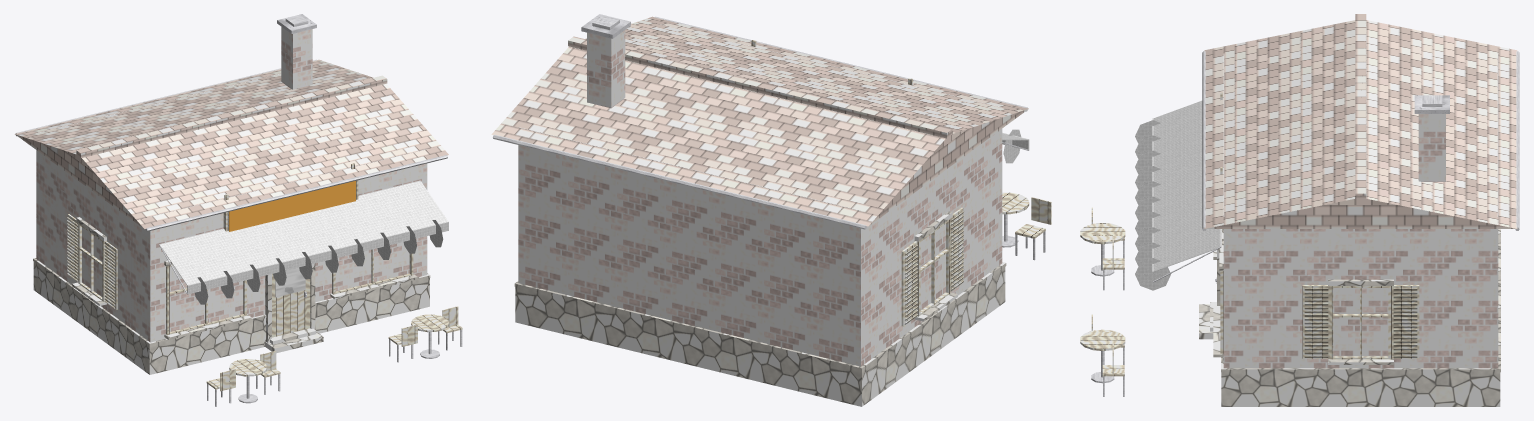
The model's file is bar.obj.
3 renders of one model, left to right at view 1: azimuth 30°, elevation 25°; view 2: azimuth 150°, elevation 25°; view 3: azimuth 270°, elevation 25°, orthographic. The views are drawn at different scales.
Visible parts, largest first — view 1: tegole_002, mattone_000, pietra_001, tessuto_010, tessuto_011, liscio_009, mattone_004, metallo_003, legno_014, legno_035, legno_013, metallo_006 (+10 smaller); view 2: mattone_000, tegole_002, pietra_001, mattone_004, metallo_003, legno_035, legno_033, metallo_006, legno_013, pietra_034, tessuto_010, cemento_005 (+1 smaller); view 3: tegole_002, mattone_000, pietra_001, tessuto_011, tessuto_010, legno_031, mattone_004, legno_012, metallo_003, legno_029, metallo_006, pietra_030 (+4 smaller).
Boxes of the visible parts, x1,y1,x2,y2 form: tegole_002: (15, 59, 448, 229); mattone_000: (36, 73, 427, 342); pietra_001: (33, 258, 430, 374); tessuto_010: (159, 187, 422, 304); tessuto_011: (185, 180, 448, 298); liscio_009: (229, 181, 355, 231); mattone_004: (281, 27, 312, 89); metallo_003: (16, 59, 447, 231); legno_014: (272, 274, 310, 337); legno_035: (67, 214, 117, 309); legno_013: (206, 306, 462, 391); metallo_006: (159, 15, 462, 406); mattone_000: (518, 24, 1002, 366); tegole_002: (491, 16, 1028, 226); pietra_001: (514, 262, 1006, 406); mattone_004: (587, 30, 625, 108); metallo_003: (492, 16, 1027, 229); legno_035: (901, 207, 963, 326); legno_033: (917, 219, 950, 316); metallo_006: (592, 15, 1045, 260); legno_013: (1015, 197, 1051, 238); pietra_034: (914, 211, 957, 321); tessuto_010: (1002, 129, 1029, 163); cemento_005: (581, 14, 630, 38); tegole_002: (1204, 14, 1517, 228); mattone_000: (1223, 54, 1498, 368); pietra_001: (1221, 229, 1500, 406); tessuto_011: (1135, 116, 1221, 290); tessuto_010: (1135, 100, 1221, 266); legno_031: (1302, 285, 1419, 358); mattone_004: (1418, 114, 1445, 181); legno_012: (1080, 223, 1125, 350); metallo_003: (1202, 51, 1519, 230); legno_029: (1330, 286, 1391, 359); metallo_006: (1091, 95, 1442, 396); pietra_030: (1328, 279, 1393, 364).
Size of the model in its own units: 7.74 by 5.64 by 8.
Materials: 25 (24 with a texture image).
